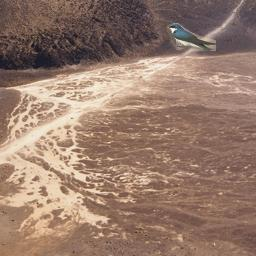Swallow: (167, 23, 216, 51)
